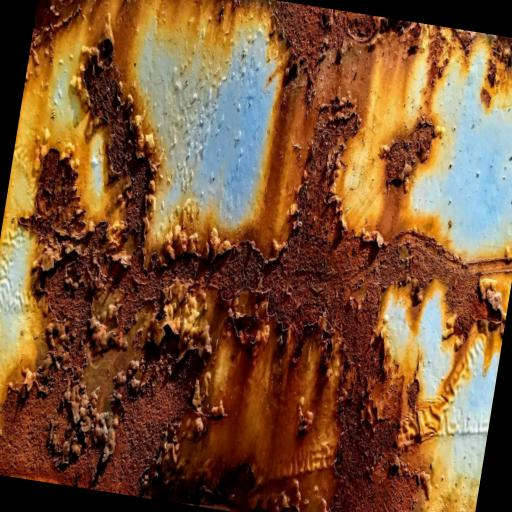segmentation: (204, 97, 476, 379), (0, 39, 172, 484), (114, 0, 284, 227), (177, 281, 342, 512), (96, 352, 199, 494), (330, 382, 419, 512), (274, 0, 388, 100), (415, 320, 504, 440), (83, 47, 133, 173), (380, 116, 438, 186), (35, 148, 84, 229), (427, 25, 455, 87), (437, 487, 477, 512), (33, 0, 72, 25), (462, 257, 512, 274), (491, 35, 512, 69), (173, 254, 198, 279), (451, 28, 476, 50), (380, 17, 408, 33), (488, 59, 496, 84), (410, 22, 420, 38)
